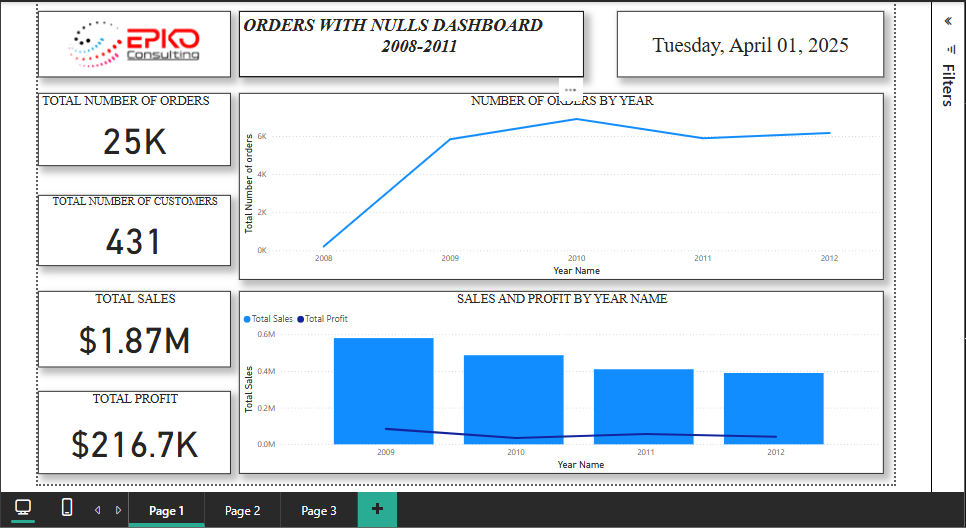

The dashboard page shown, as its layout file describes it:
{"tool":"powerbi","page":{"name":"Page 1","canvas":[1280,720],"ordinal":0},"visuals":[{"type":"card","title":"TOTAL NUMBER OF ORDERS","fields":{"Values":["Orders_with_Nulls.Total Number of orders"]},"box":[0,135.9,288.3,109],"z":0},{"type":"card","title":"TOTAL NUMBER OF CUSTOMERS","fields":{"Values":["Orders_with_Nulls.Total Number of customers"]},"box":[0,288.3,288.3,106.1],"z":1000},{"type":"card","title":"TOTAL PROFIT","fields":{"Values":["Orders_with_Nulls.Total Profit"]},"box":[0,581.1,288.3,124],"z":2000},{"type":"card","title":"TOTAL SALES","fields":{"Values":["Orders_with_Nulls.Total Sales"]},"box":[0,431.7,288.3,113.5],"z":3000},{"type":"lineChart","title":"NUMBER OF ORDERS BY YEAR","fields":{"Category":["Date Table.Year Name"],"Y":["Orders_with_Nulls.Total Number of orders"]},"box":[300.2,135.9,963.5,279.3],"z":4000},{"type":"lineClusteredColumnComboChart","title":"SALES AND PROFIT BY YEAR NAME","fields":{"Category":["Date Table.Year Name"],"Y":["Orders_with_Nulls.Total Sales"],"Y2":["Orders_with_Nulls.Total Profit"]},"box":[300.2,431.7,963.5,273.4],"z":5000},{"type":"image","box":[0,13.4,288.3,98.6],"z":6000},{"type":"textbox","box":[300.2,13.4,515.4,98.6],"z":7000},{"type":"card","fields":{"Values":["Date Table.DateNow"]},"box":[864.9,13.4,398.8,98.6],"z":8000}]}

Visuals, with their boxes on the page's 1280x720 design canvas (x1, y1, x2, y2). These are canvas units, not pixel positions in the 966x528 screenshot, which may show the page scaled, cropped or inside an application window:
"TOTAL NUMBER OF ORDERS" card: 0, 136, 288, 245
"TOTAL NUMBER OF CUSTOMERS" card: 0, 288, 288, 394
"TOTAL PROFIT" card: 0, 581, 288, 705
"TOTAL SALES" card: 0, 432, 288, 545
"NUMBER OF ORDERS BY YEAR" lineChart: 300, 136, 1264, 415
"SALES AND PROFIT BY YEAR NAME" lineClusteredColumnComboChart: 300, 432, 1264, 705
image: 0, 13, 288, 112
textbox: 300, 13, 816, 112
card - Date Table.DateNow: 865, 13, 1264, 112
